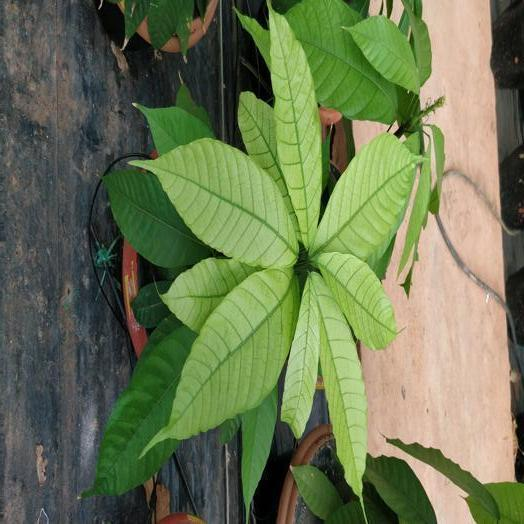Healthy Leaf: (84, 327, 195, 495), (105, 170, 209, 267), (388, 438, 499, 516), (365, 456, 436, 523), (241, 386, 276, 521), (136, 105, 212, 155), (292, 465, 342, 518), (466, 483, 523, 523), (133, 281, 170, 327)
Iron: (146, 269, 298, 448), (132, 139, 297, 266), (311, 133, 421, 259), (285, 0, 397, 123), (270, 8, 321, 247), (313, 273, 366, 501), (317, 252, 396, 348), (162, 258, 256, 332), (238, 92, 292, 212), (281, 276, 319, 437), (344, 15, 418, 92), (397, 153, 430, 275)
